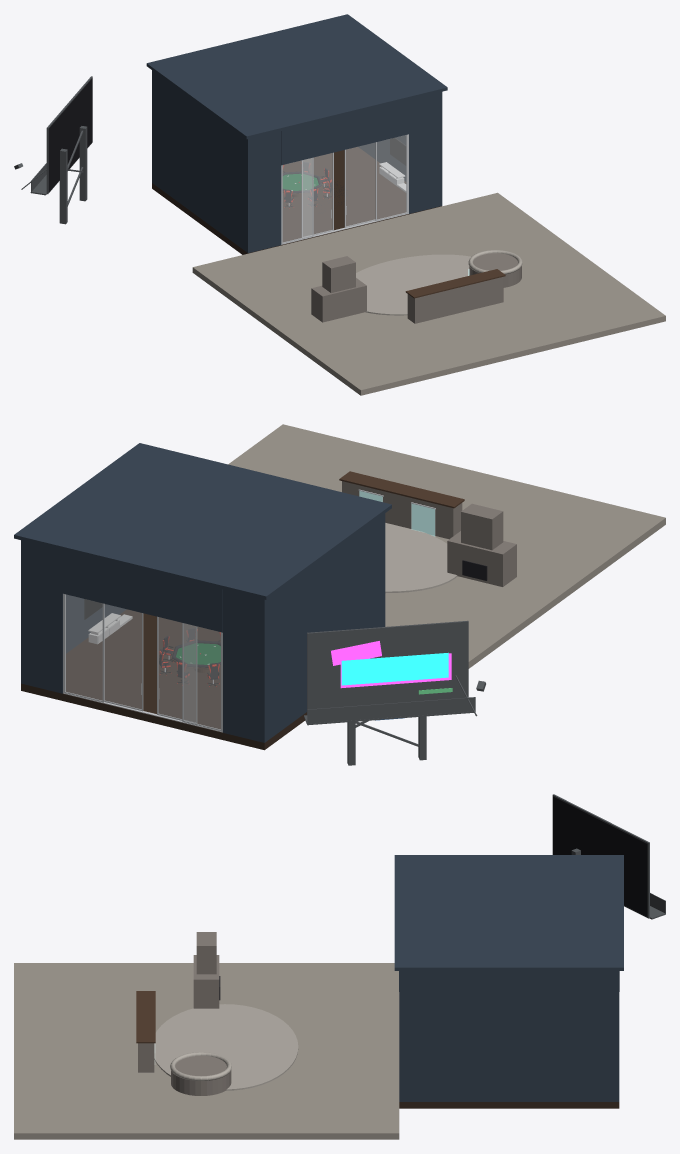
The model's file is Nightclub.glb.
3 renders of one model, top to bottom at view 1: azimuth 30°, elevation 25°; view 2: azimuth 150°, elevation 25°; view 3: azimuth 270°, elevation 25°, orthographic. The views are drawn at different scales.
Parts seen in each view (by area): view 1: Cube.058, Cube.057, Cube.002, Cube, Cube.005, Cylinder.005, Cube.004, Cube.003, Cube.059, Cube.075, Cube.019, Cube.014 (+9 smaller); view 2: Cube.057, Cube.058, Cube.002, Cube, Cube.076, Cube.032, Cube.030, Cube.031, Cylinder.005, Cube.041, Cube.046, Cube.051 (+11 smaller); view 3: Cube.058, Cube.001, Cube.057, Cylinder.005, Cube.075, Cylinder.007, Cube, Cube.066, Cube.060, Cube.067, Torus, Cube.030 (+2 smaller).
Part boxes in pixels (x1,y1,x2,y2): Cube.058: (192, 192, 665, 395); Cube.057: (146, 14, 447, 139); Cube.002: (152, 70, 250, 251); Cube: (152, 147, 441, 254); Cube.005: (281, 100, 408, 165); Cylinder.005: (356, 254, 470, 315); Cube.004: (246, 131, 281, 252); Cube.003: (409, 92, 442, 213); Cube.059: (407, 277, 503, 323); Cube.075: (48, 78, 92, 192); Cube.019: (282, 158, 312, 242); Cube.014: (377, 135, 406, 219); Cube.057: (14, 443, 391, 599); Cube.058: (228, 424, 665, 668); Cube.002: (261, 515, 383, 742); Cube: (21, 609, 306, 750); Cube.076: (307, 620, 468, 714); Cube.032: (62, 550, 222, 632); Cube.030: (21, 540, 62, 693); Cube.031: (223, 589, 266, 741); Cylinder.005: (385, 523, 457, 593); Cube.041: (65, 594, 102, 700); Cube.046: (183, 623, 220, 729); Cube.051: (104, 604, 141, 709); Cube.058: (14, 963, 399, 1139); Cube.001: (399, 971, 618, 1101); Cube.057: (394, 855, 623, 970); Cylinder.005: (154, 1004, 298, 1090); Cube.075: (553, 796, 647, 916); Cylinder.007: (171, 1055, 231, 1095); Cube: (399, 1102, 619, 1108); Cube.066: (193, 955, 219, 1008); Cube.060: (136, 991, 155, 1043); Cube.067: (196, 932, 216, 974); Torus: (170, 1052, 231, 1080); Cube.030: (615, 971, 619, 1101).
Size of the model in its own units: 29.24 by 8.61 by 35.54.
